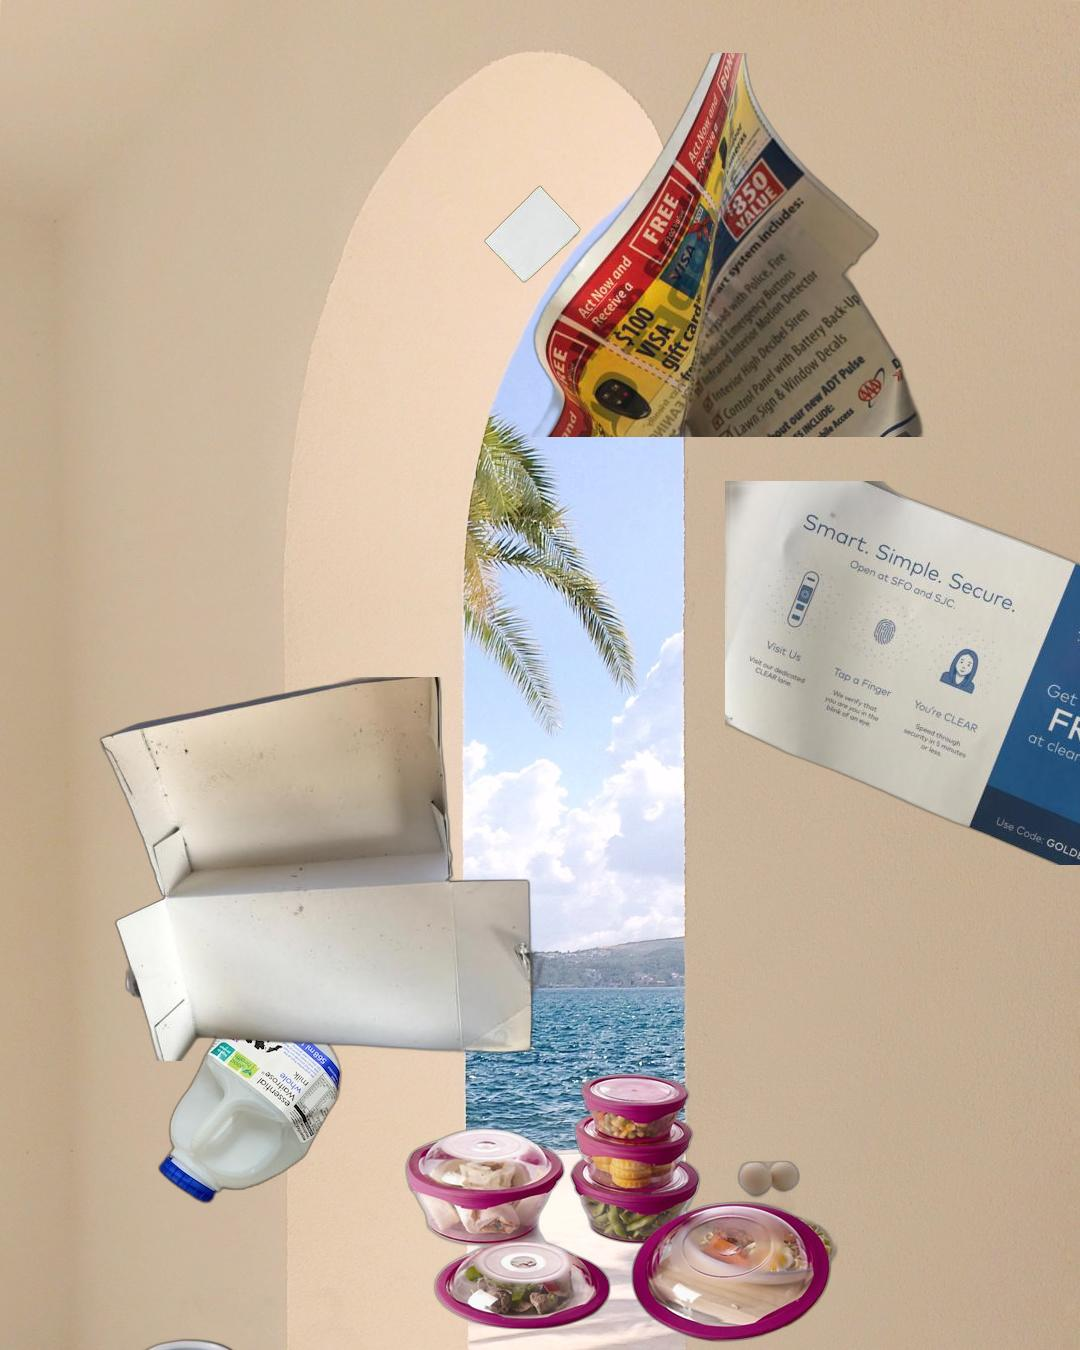biological: (402, 1072, 840, 1345), (46, 1288, 376, 1350)
paper: (96, 677, 549, 1061), (527, 53, 927, 437), (725, 481, 1080, 865)
paper-bag: (482, 183, 581, 283)
plastic-bottles: (154, 993, 345, 1209)
